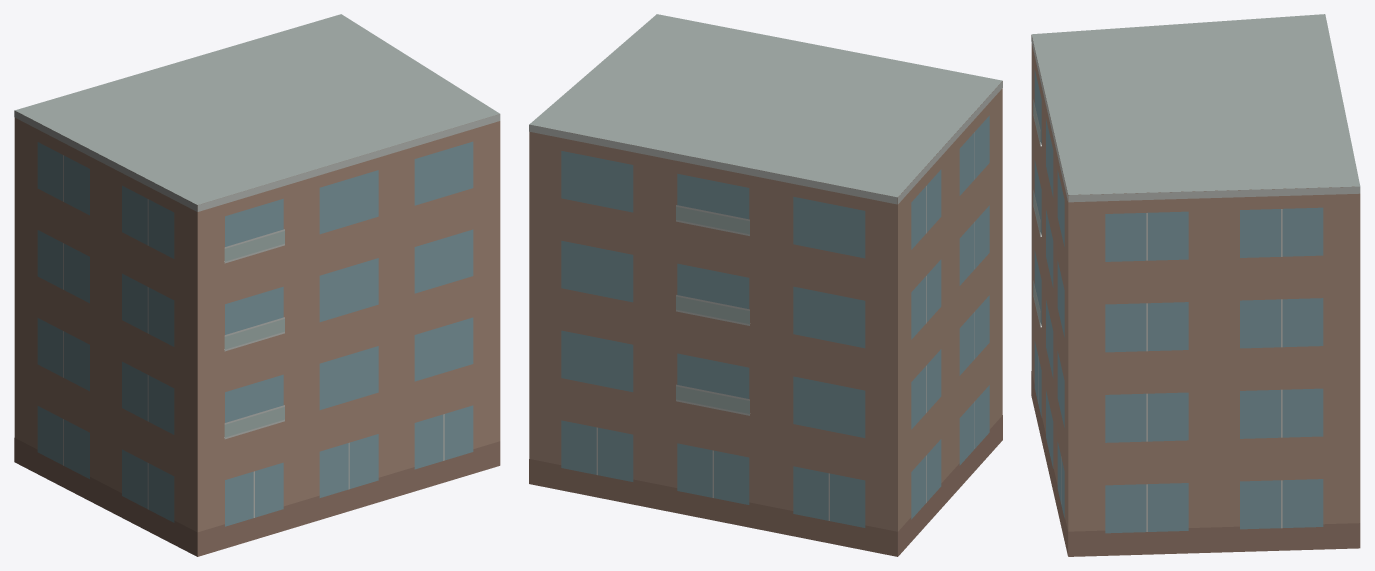
Rendered from survey-upis-32992322.glb.
The picture shows the model from 3 angles, left to right: view 1: azimuth 30°, elevation 25°; view 2: azimuth 150°, elevation 25°; view 3: azimuth 270°, elevation 25°; orthographic projection. The views are drawn at different scales.
Visible parts, largest first — view 1: survey-upis-32992322.tmp; view 2: survey-upis-32992322.tmp; view 3: survey-upis-32992322.tmp.
Part boxes in pixels (box(x1,y1,x2,y2)): survey-upis-32992322.tmp: box(14, 14, 500, 556); survey-upis-32992322.tmp: box(529, 14, 1002, 556); survey-upis-32992322.tmp: box(1031, 14, 1360, 556).
Size of the model in its own units: 13.1 by 12.2 by 10.06.
